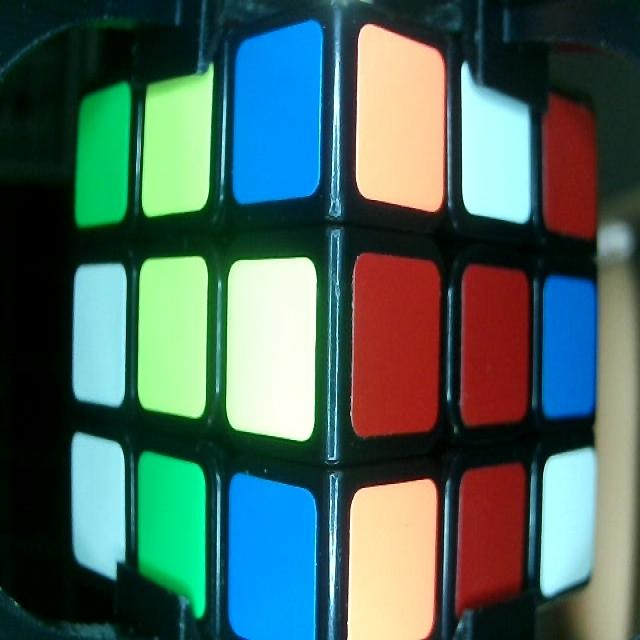b: (237, 27, 321, 200), (231, 477, 310, 640), (544, 276, 597, 416)
g: (137, 459, 206, 611), (76, 90, 127, 222)
o: (357, 26, 445, 208), (350, 489, 436, 638)
r: (352, 258, 442, 430), (462, 268, 528, 419), (457, 469, 525, 614), (542, 95, 598, 236)
w: (462, 59, 528, 214), (71, 432, 123, 576), (542, 454, 596, 588), (75, 264, 124, 404)
y: (228, 259, 314, 441), (138, 263, 205, 420), (142, 64, 212, 214)
